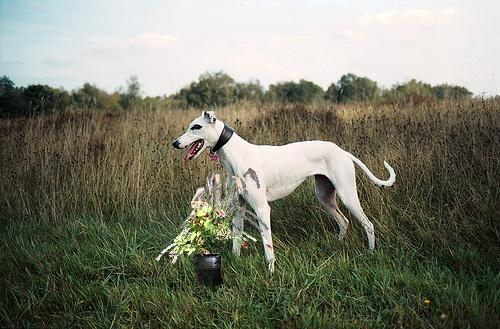tampered: (157, 169, 272, 287)
